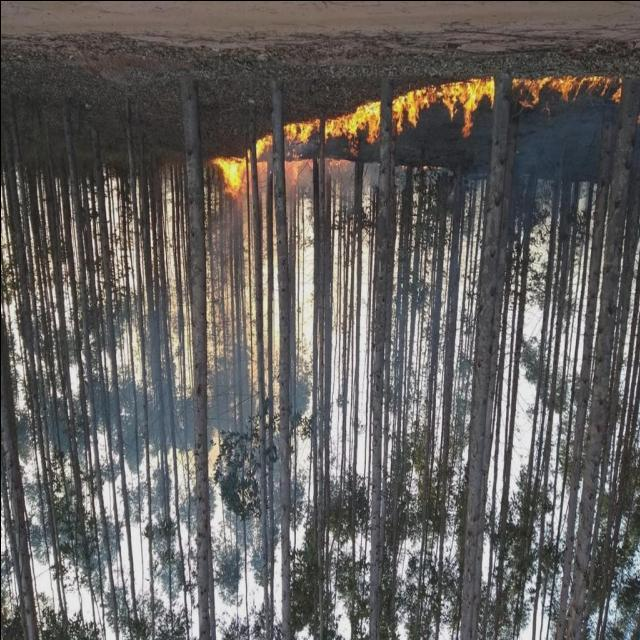Fire: (207, 68, 627, 202)
